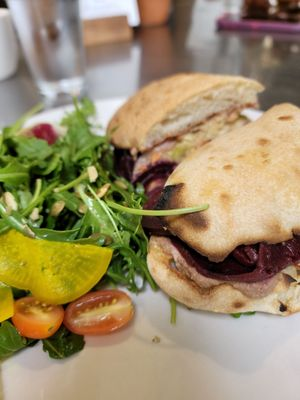pizza: (4, 0, 88, 110)
soup: (143, 98, 300, 318)
